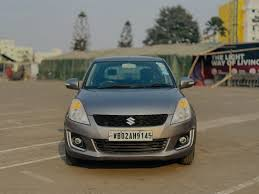Swift: (66, 52, 197, 167)
